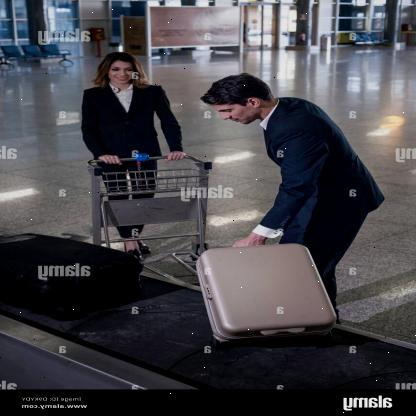airport-trolley: (87, 152, 225, 288)
